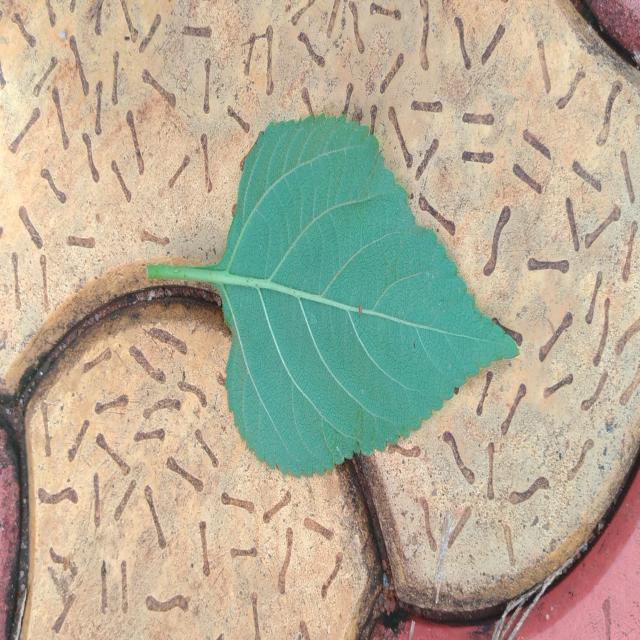Lantana: (148, 116, 518, 476)
